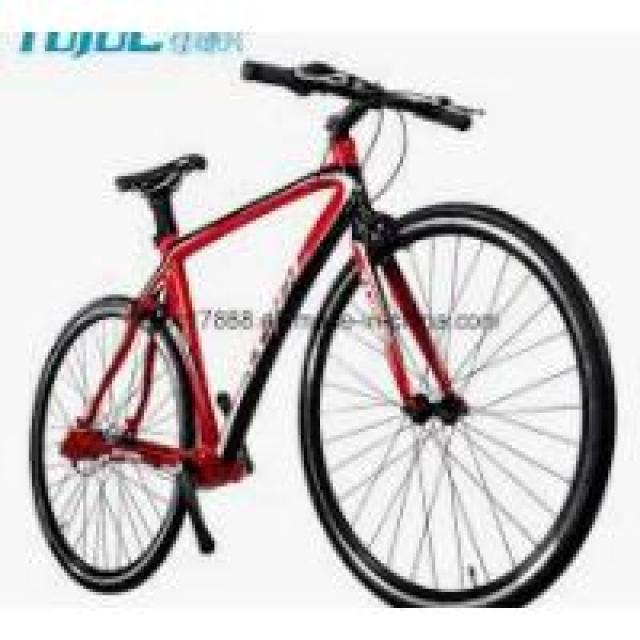bicycle: (69, 62, 600, 603)
